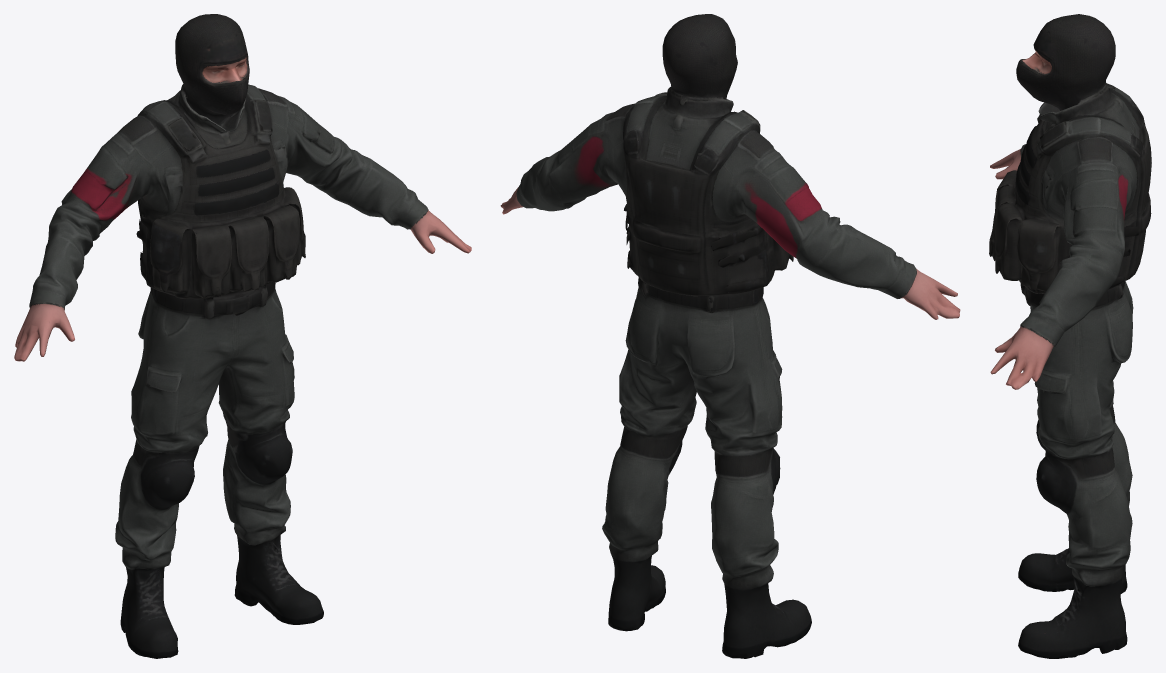
File: sol_rifleman.glb
3 renders of one model, left to right at view 1: azimuth 30°, elevation 25°; view 2: azimuth 150°, elevation 25°; view 3: azimuth 270°, elevation 25°, orthographic.
Size of the model in its own units: 0.7865 by 0.9987 by 0.2456.
1 material, 1 textured.
